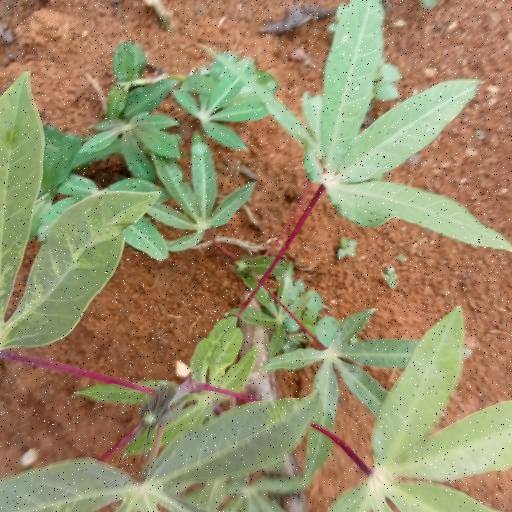Cassava_Mosaic: (267, 10, 503, 244), (0, 87, 145, 359), (0, 389, 313, 512)
